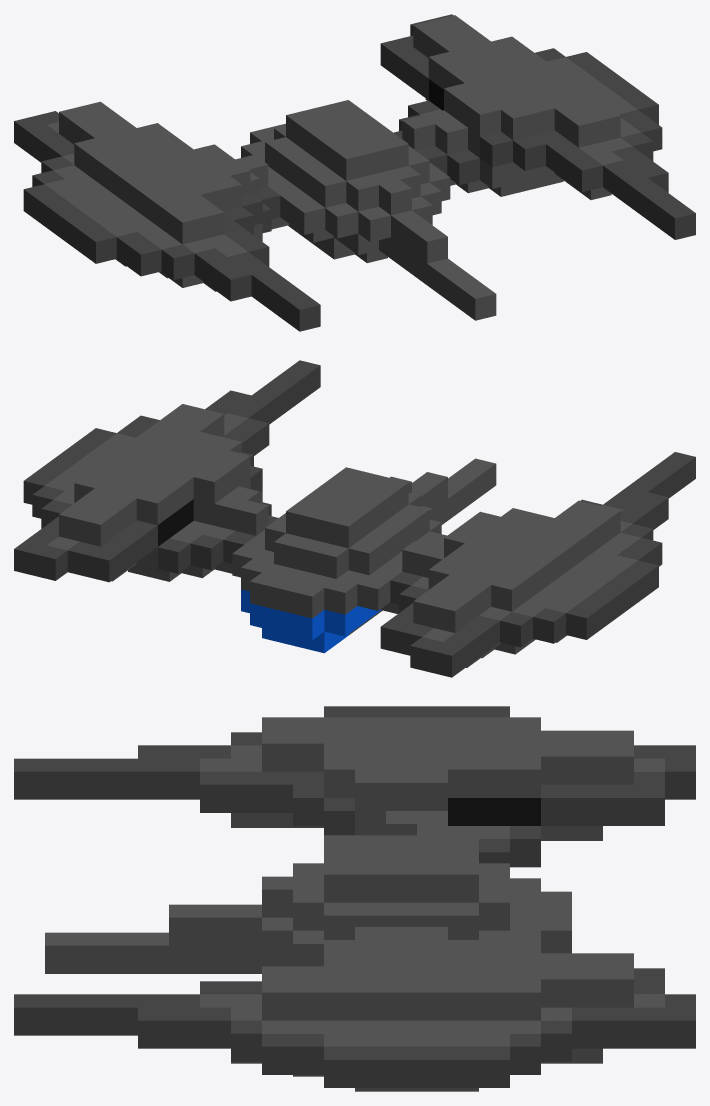
Rendered from corable3.0.glb.
3 renders of one model, top to bottom at view 1: azimuth 30°, elevation 25°; view 2: azimuth 150°, elevation 25°; view 3: azimuth 270°, elevation 25°, orthographic. The views are drawn at different scales.
Parts seen in each view (by area): view 1: Content-Mesh; view 2: Content-Mesh; view 3: Content-Mesh.
Boxes of the visible parts, left/top/right/bottom form: Content-Mesh: left=14, top=14, right=695, bottom=331; Content-Mesh: left=14, top=360, right=695, bottom=677; Content-Mesh: left=14, top=706, right=695, bottom=1091.
Size of the model in its own units: 1.12 by 0.2071 by 0.9113.
1 material, 1 textured.
